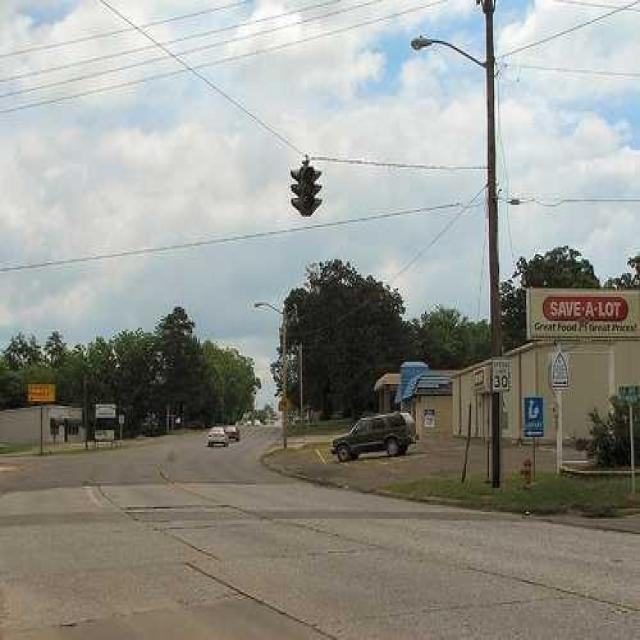Traffic Light -Green-: (290, 166, 322, 218)
